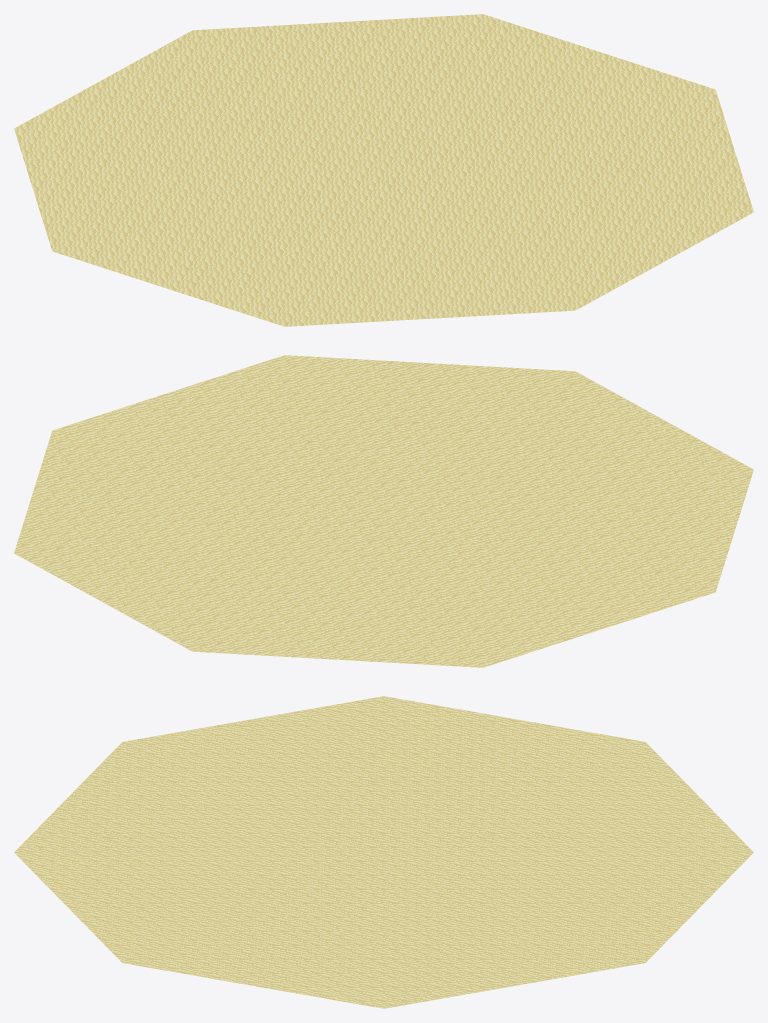
File: tidepool.glb
The picture shows the model from 3 angles, top to bottom: view 1: azimuth 30°, elevation 25°; view 2: azimuth 150°, elevation 25°; view 3: azimuth 270°, elevation 25°; orthographic projection. The views are drawn at different scales.
Visible parts, largest first — view 1: Circle; view 2: Circle; view 3: Circle.
Part boxes in pixels (left/top/right/bottom): Circle: left=14, top=14, right=753, bottom=326; Circle: left=14, top=355, right=753, bottom=667; Circle: left=14, top=696, right=753, bottom=1008.
Bounding box in the file's own units: 40 × 8.88e-15 × 40.
1 material, 1 textured.
